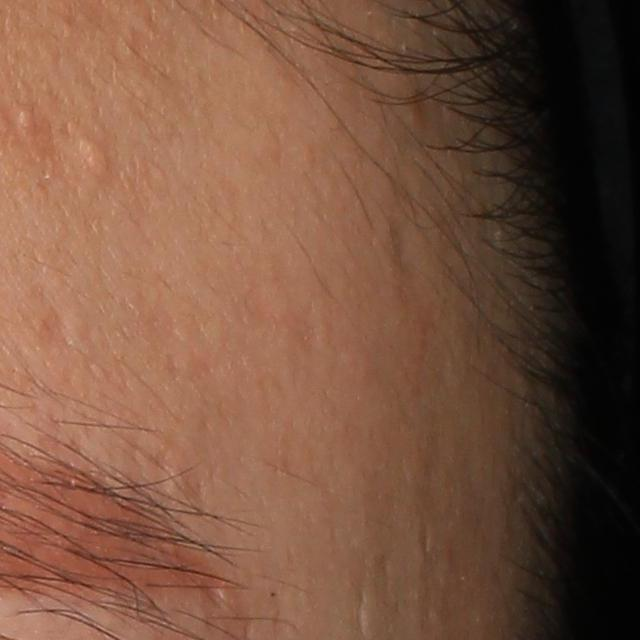atrophic_scar: (36, 305, 79, 351)
comedo: (75, 138, 108, 179), (17, 108, 37, 134)
